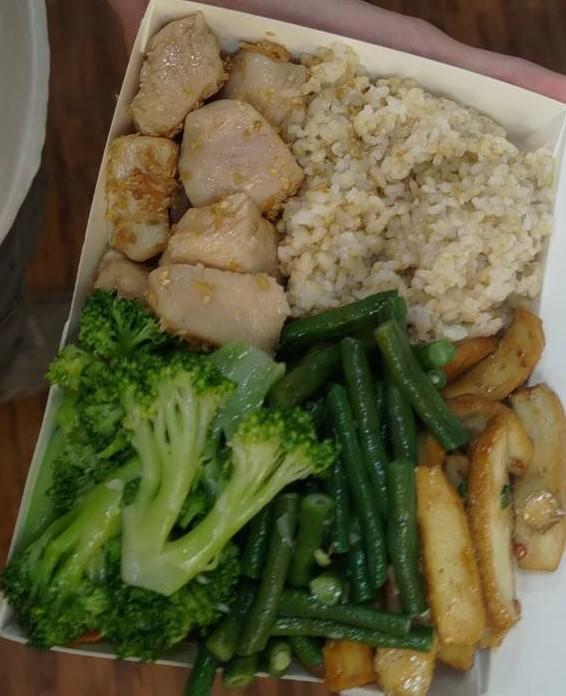big grilled chicken leg: (9, 7, 566, 696)
box: (295, 57, 560, 331)
braised fish fillet: (26, 310, 312, 648), (242, 307, 439, 667), (397, 312, 566, 684)
braised pork: (100, 9, 307, 347)
